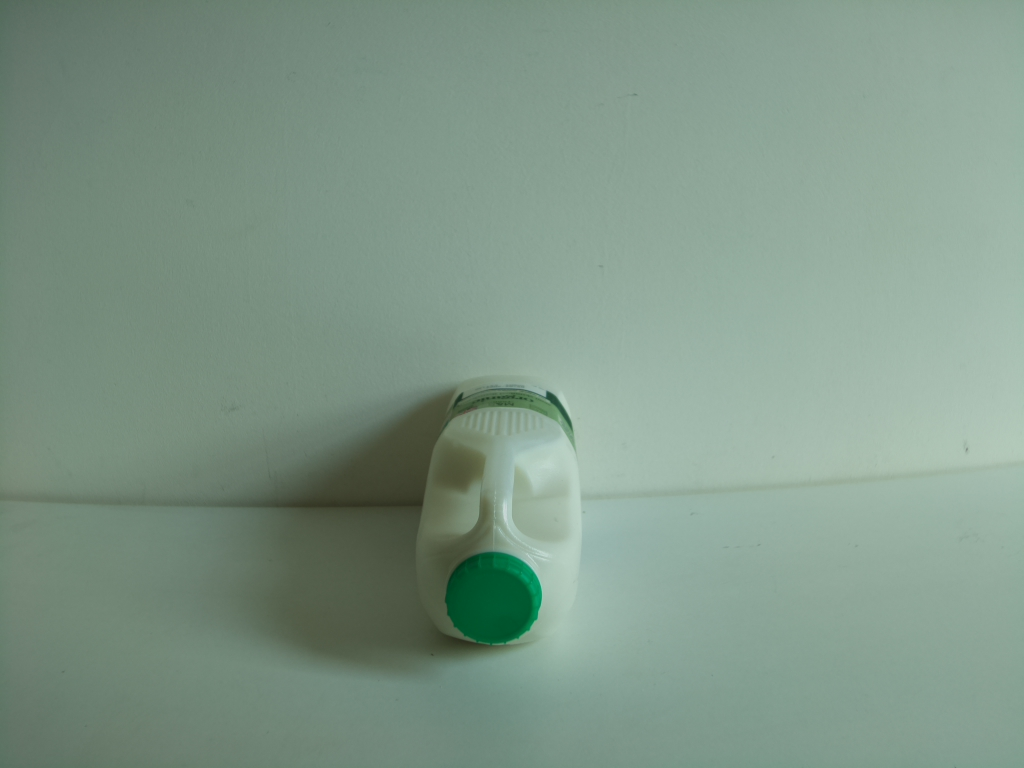milk: (408, 368, 584, 652)
